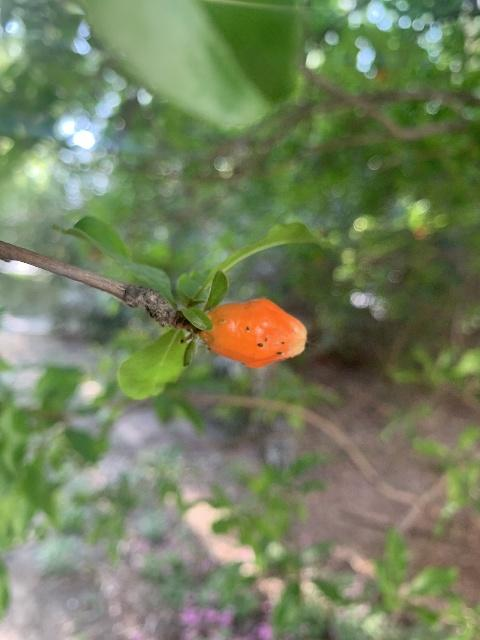bud: (200, 298, 307, 369)
